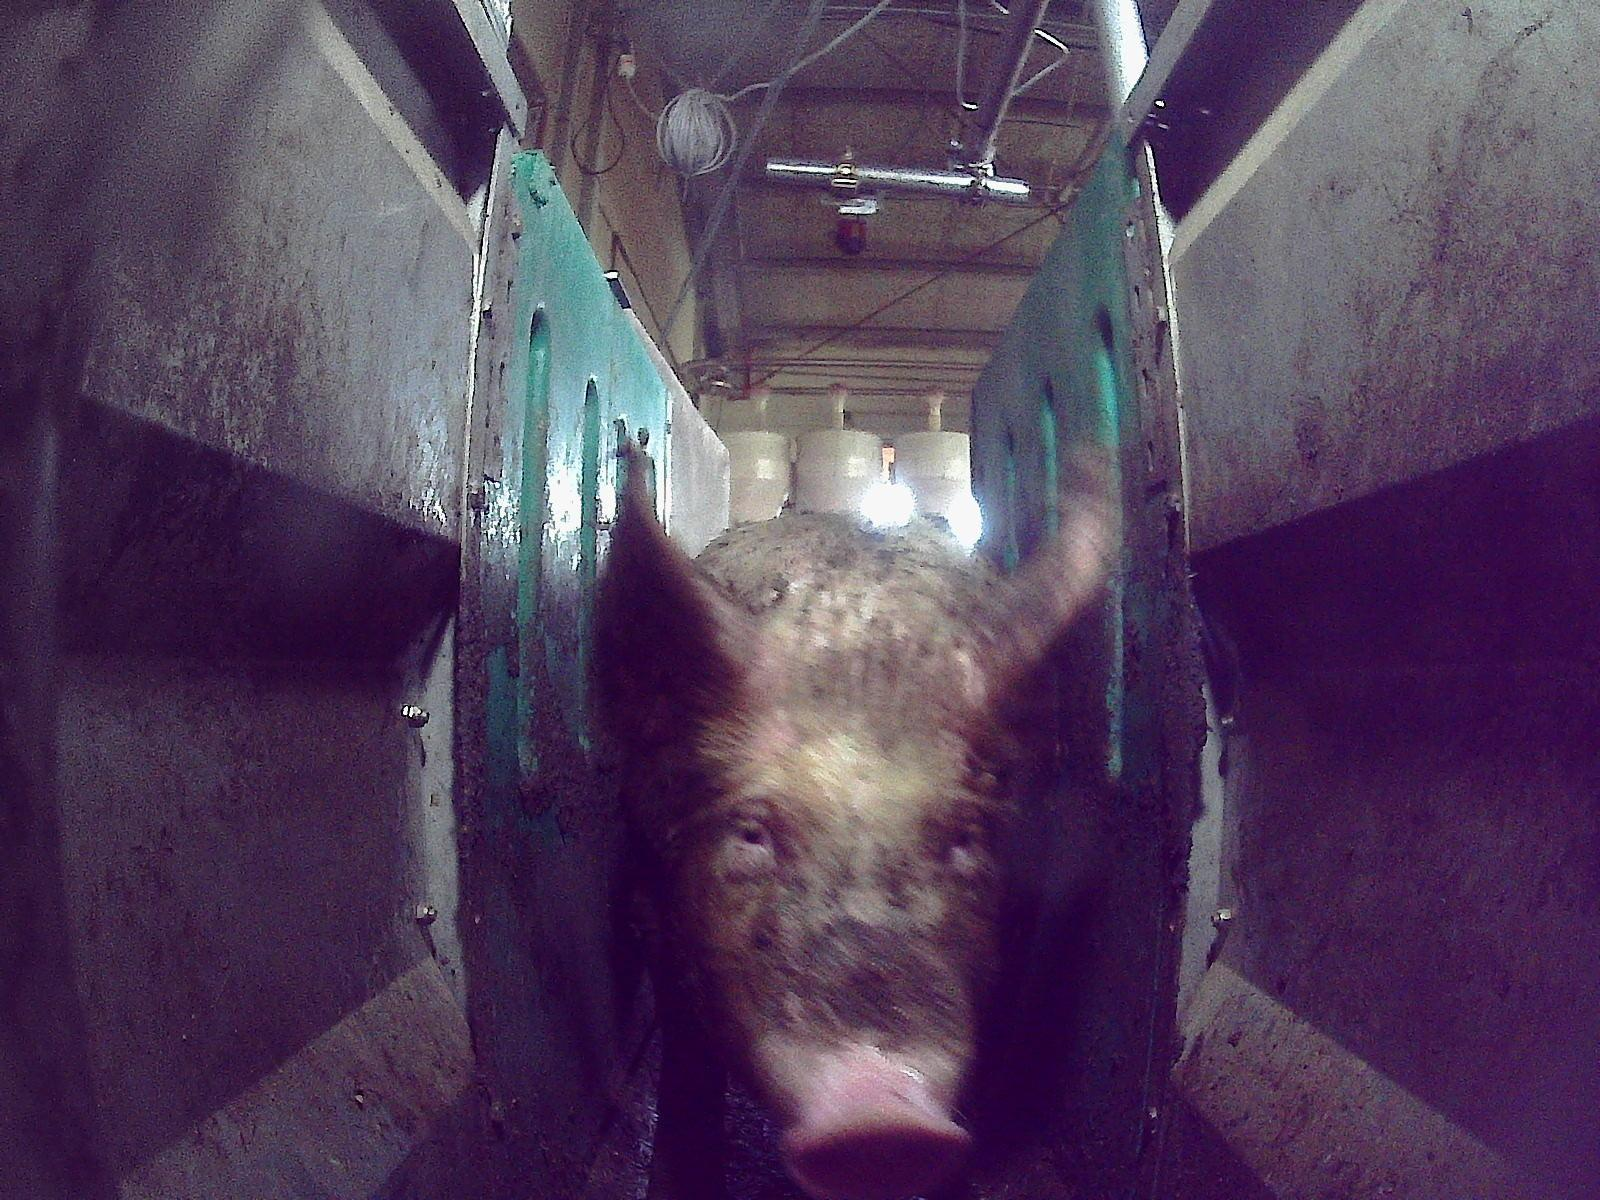Face: (679, 620, 1006, 1199)
